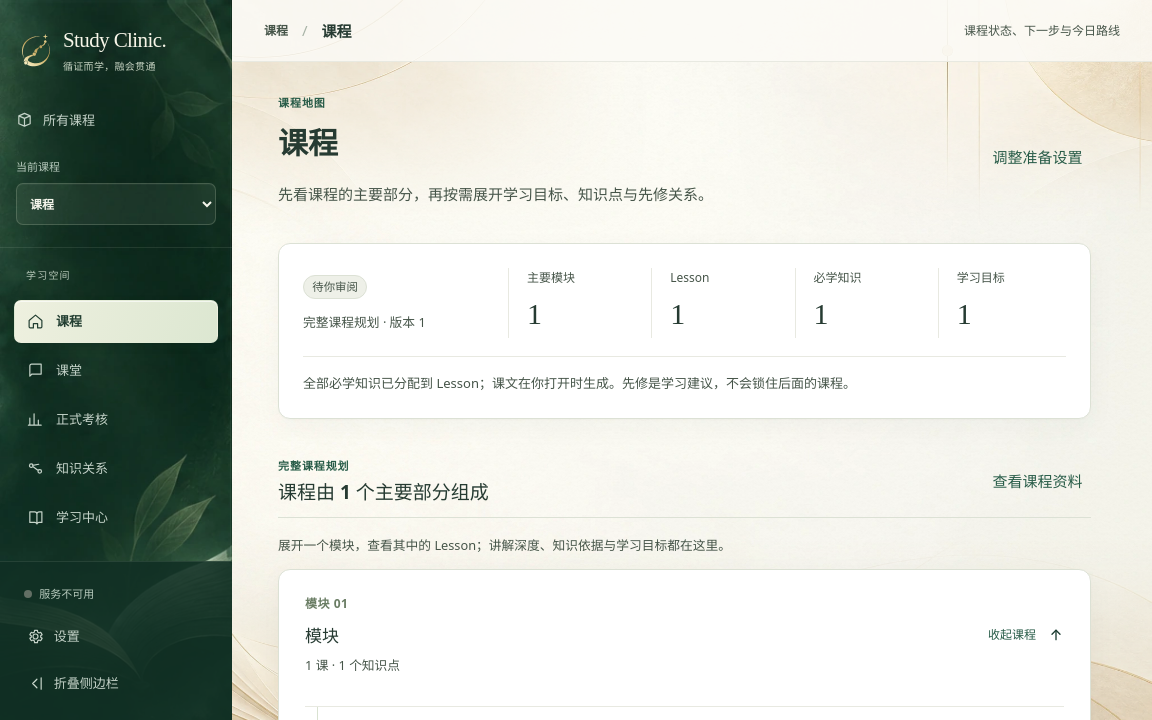
Test: 完整规划与独立学习界面 › 打开已完成出题操作恢复冻结作答和成绩，不显示提交或重写草稿
The width and height of the screenshot is (1152, 720).
Click the button "学习中心".
click(116, 517)  # box x1=14 y1=496 x2=218 y2=539
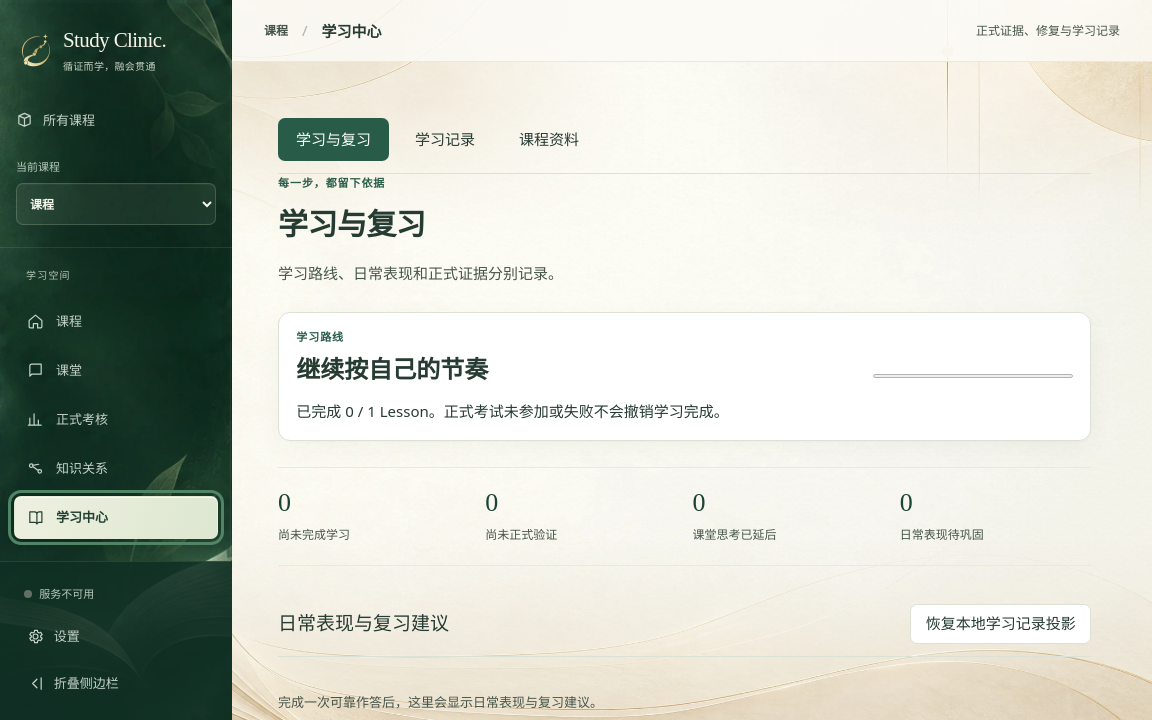
Click the tab "学习记录".
click(445, 139)  # box x1=397 y1=118 x2=493 y2=161
(page scrolled)
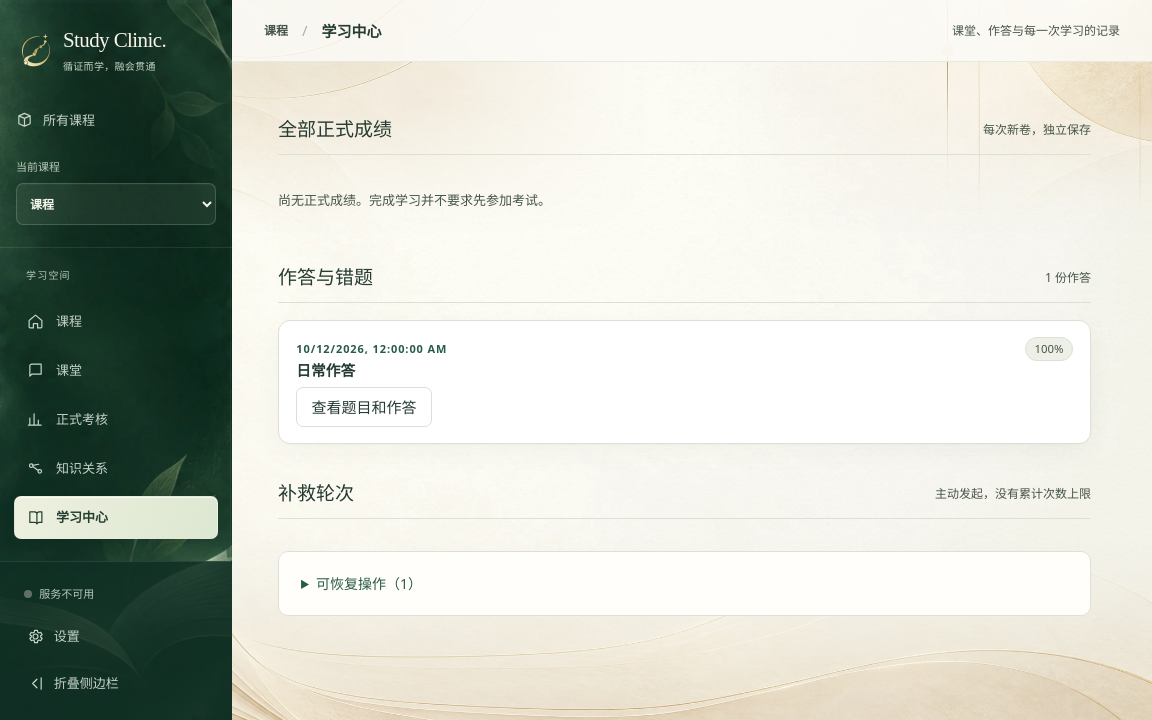
Click the heading "可恢复操作（1）".
click(369, 583)  # box x1=316 y1=574 x2=422 y2=593
(page scrolled)
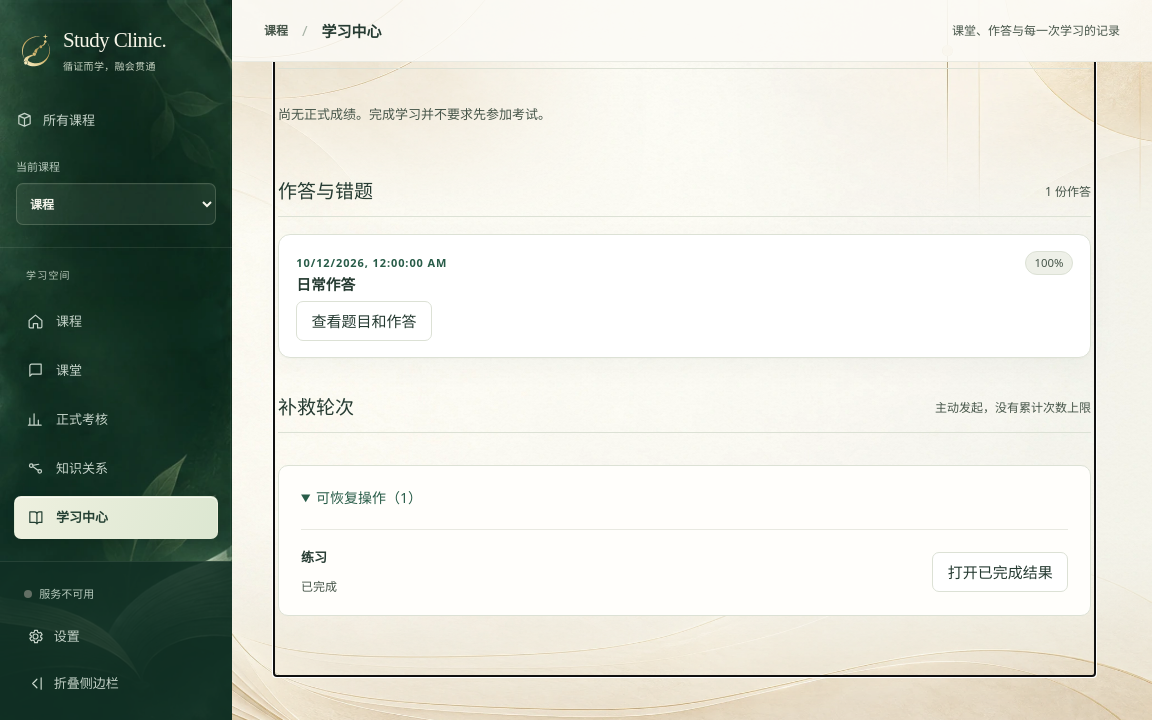
Click the button "打开已完成结果".
click(1000, 572)  # box x1=932 y1=552 x2=1068 y2=592
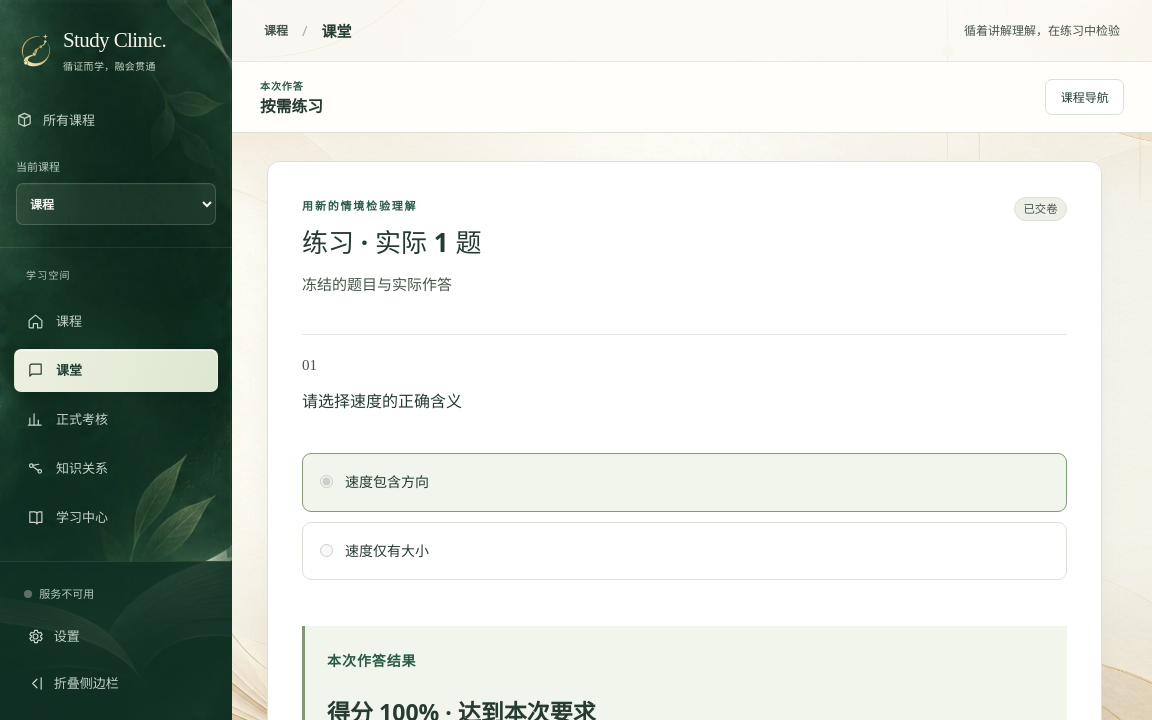
Expected: the heading "得分 100% · 达到本次要求" is shown, x1=327 y1=696 x2=596 y2=719
Expected: the radio button labelled "速度包含方向" is checked, x1=320 y1=475 x2=333 y2=488
Expected: the radio button labelled "速度包含方向" is disabled, x1=320 y1=475 x2=333 y2=488
